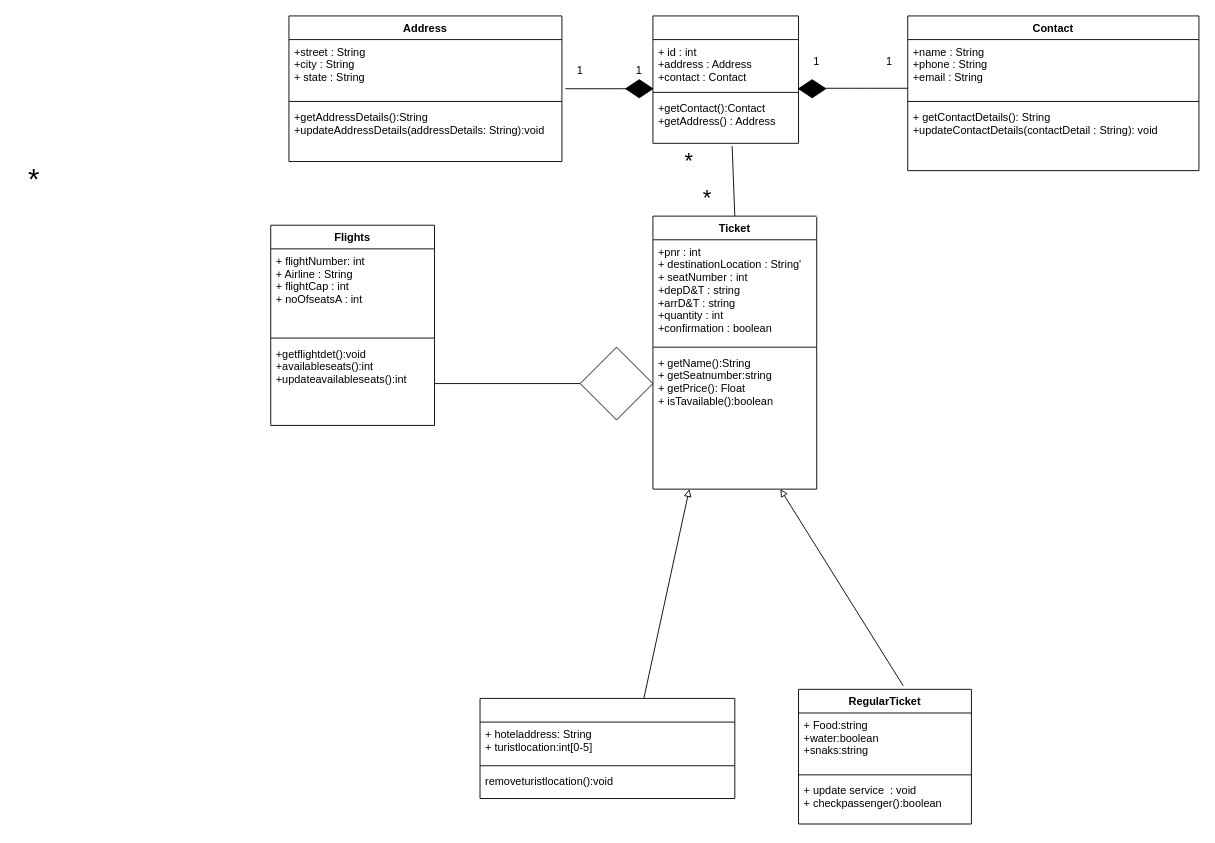
The diagram is 1215 pixels wide and 843 high, and some of its shapes have lost their labels. The box of each missing label's shape, as (x1, y1, x2, y2) in pixels:
Passenger: (652, 15, 799, 143)
TuristTicket: (479, 698, 735, 799)
